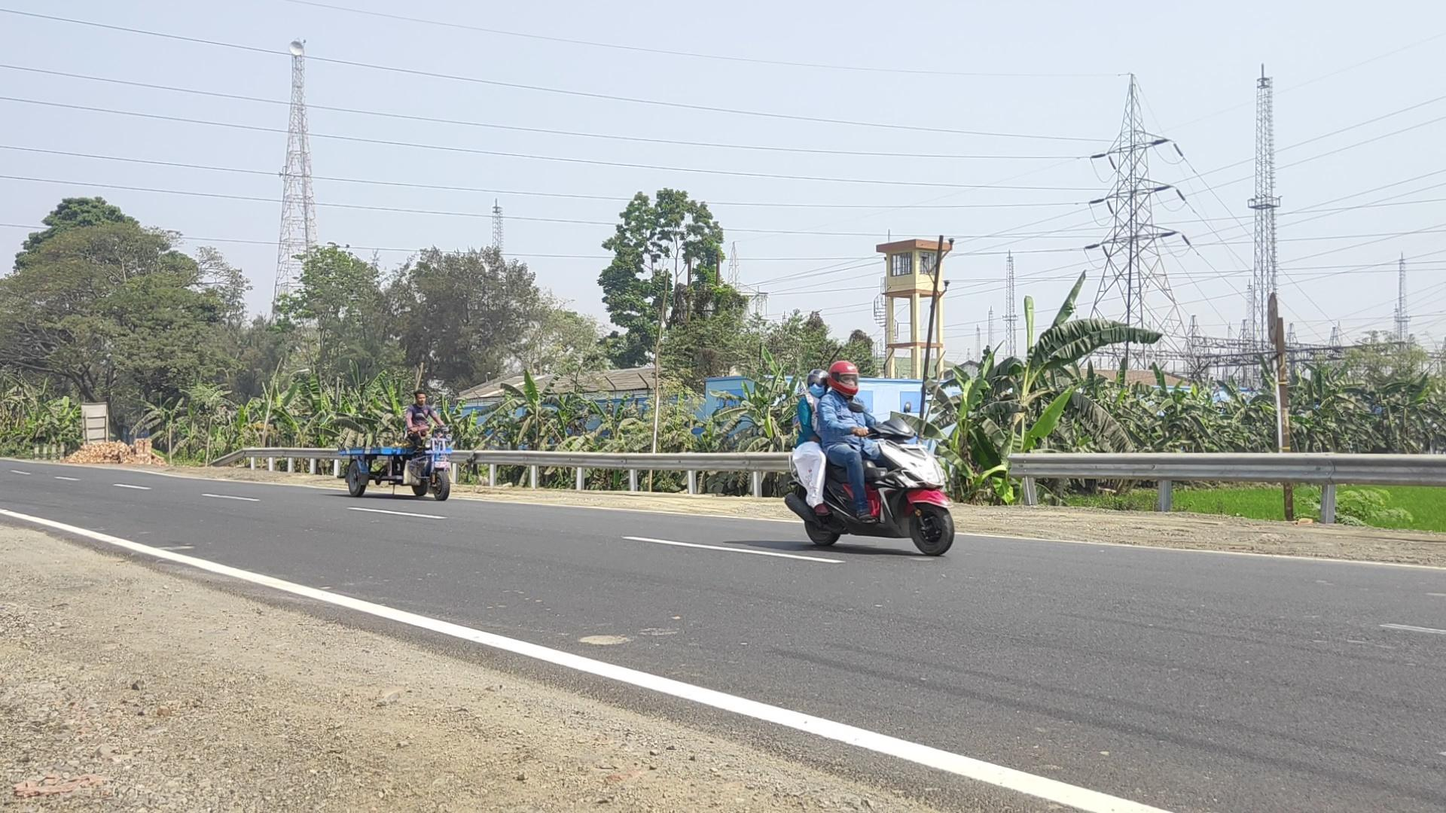bike: (782, 360, 956, 557)
